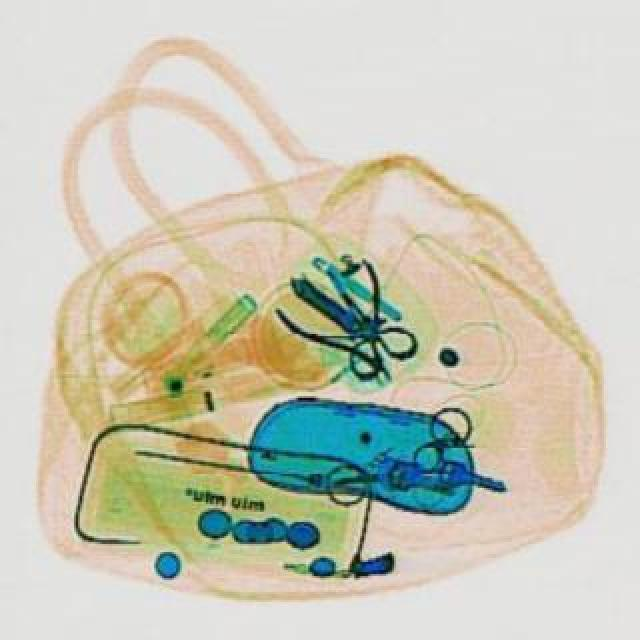pliers: (300, 240, 424, 378)
